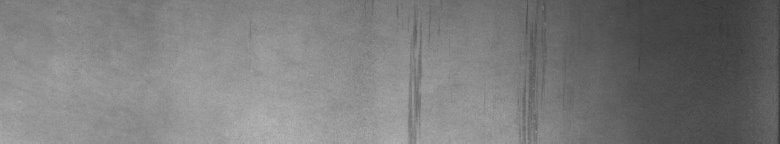ka: (518, 4, 544, 132)
